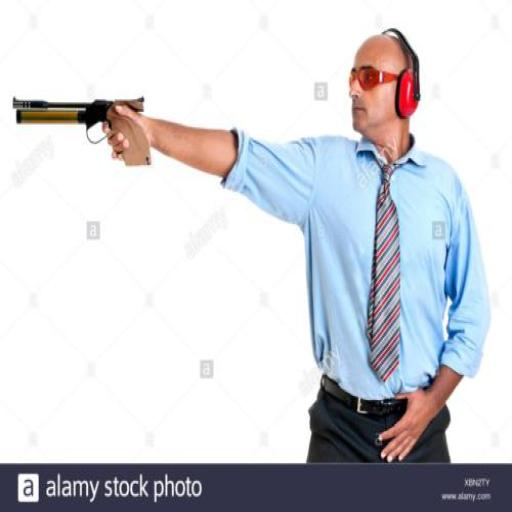shooting: (100, 25, 494, 465)
